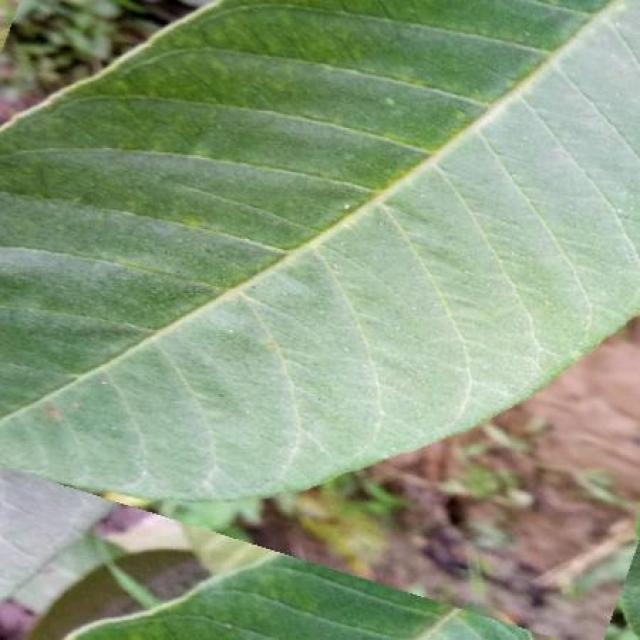Disease Free: (0, 0, 640, 499), (68, 555, 528, 639)
